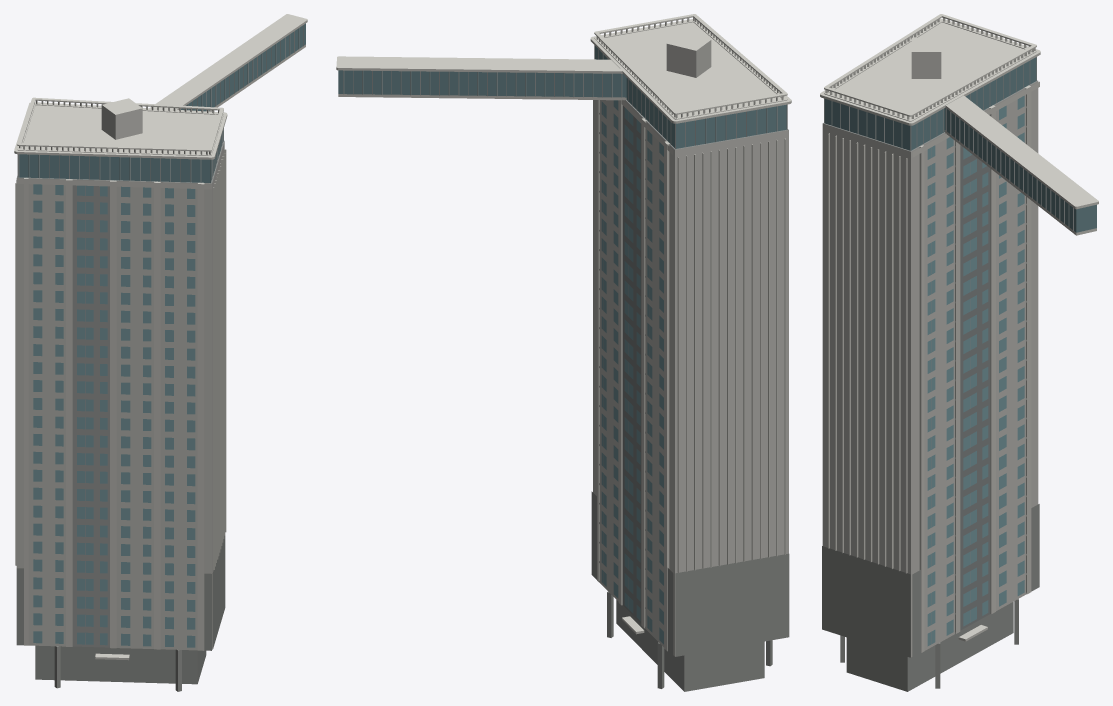
The model's file is maple-xi-210.glb.
3 views of the same model, side by side, from view 1: azimuth 30°, elevation 25°; view 2: azimuth 150°, elevation 25°; view 3: azimuth 270°, elevation 25° (orthographic). The views are drawn at different scales.
Visible parts, largest first — view 1: maple-xi-210; view 2: maple-xi-210; view 3: maple-xi-210.
Boxes of the visible parts, x1,y1,x2,y2 form: maple-xi-210: (14, 14, 307, 691); maple-xi-210: (336, 14, 791, 691); maple-xi-210: (820, 14, 1098, 691).
Bounding box in the file's own units: 62.74 × 94.56 × 39.35.
